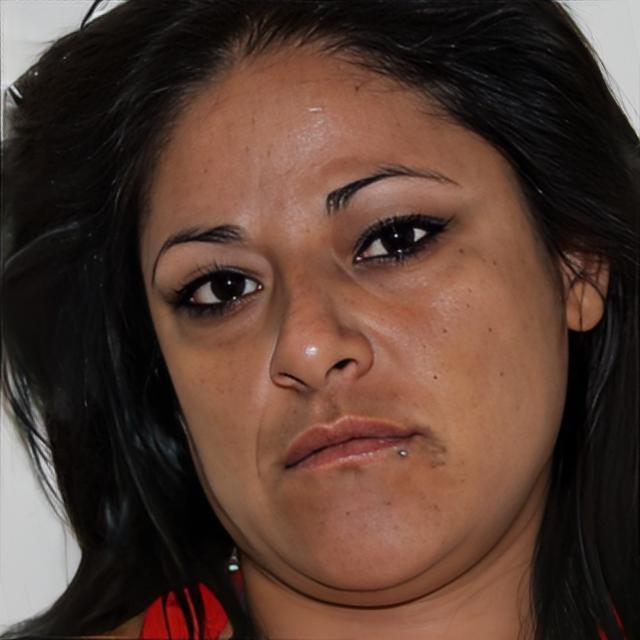sad: (131, 46, 567, 594)
